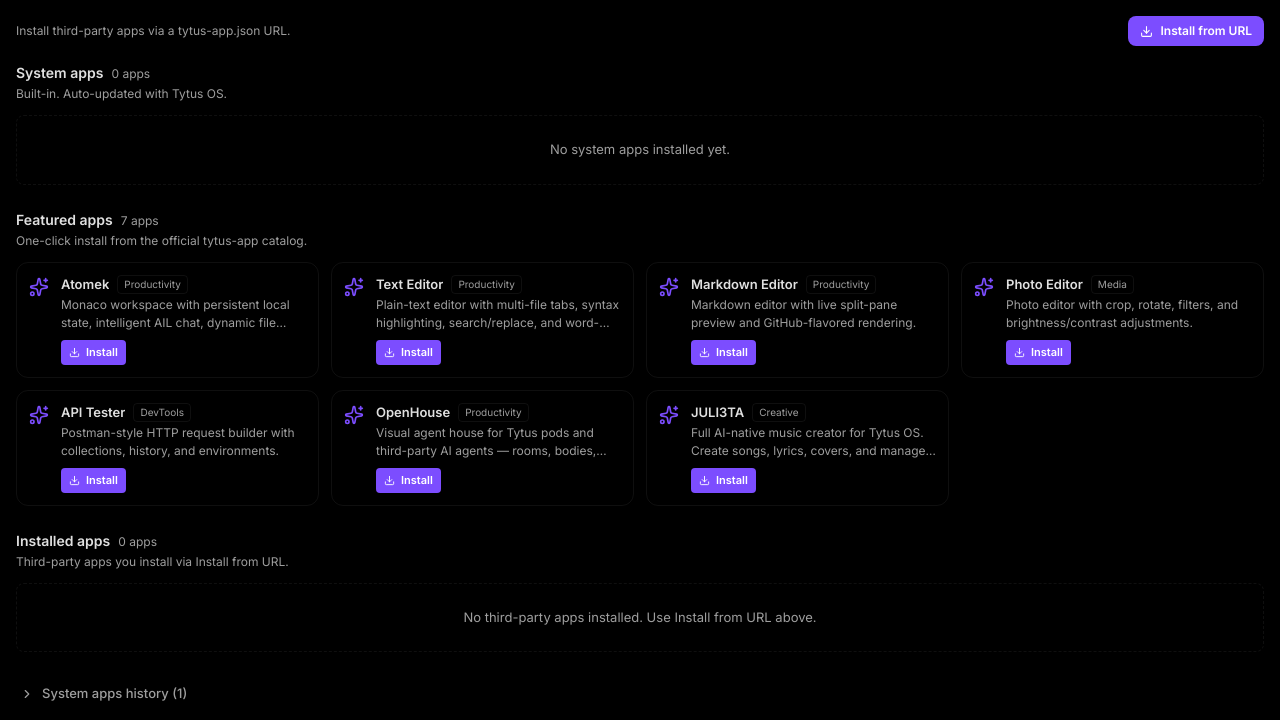
Test case: TytusAppsTab › expands the System apps history section on click
Click the button with test id "tytus-apps-history-toggle". click: [109, 693]
box: top-left (16, 676), bottom-right (1264, 712)
(page scrolled)
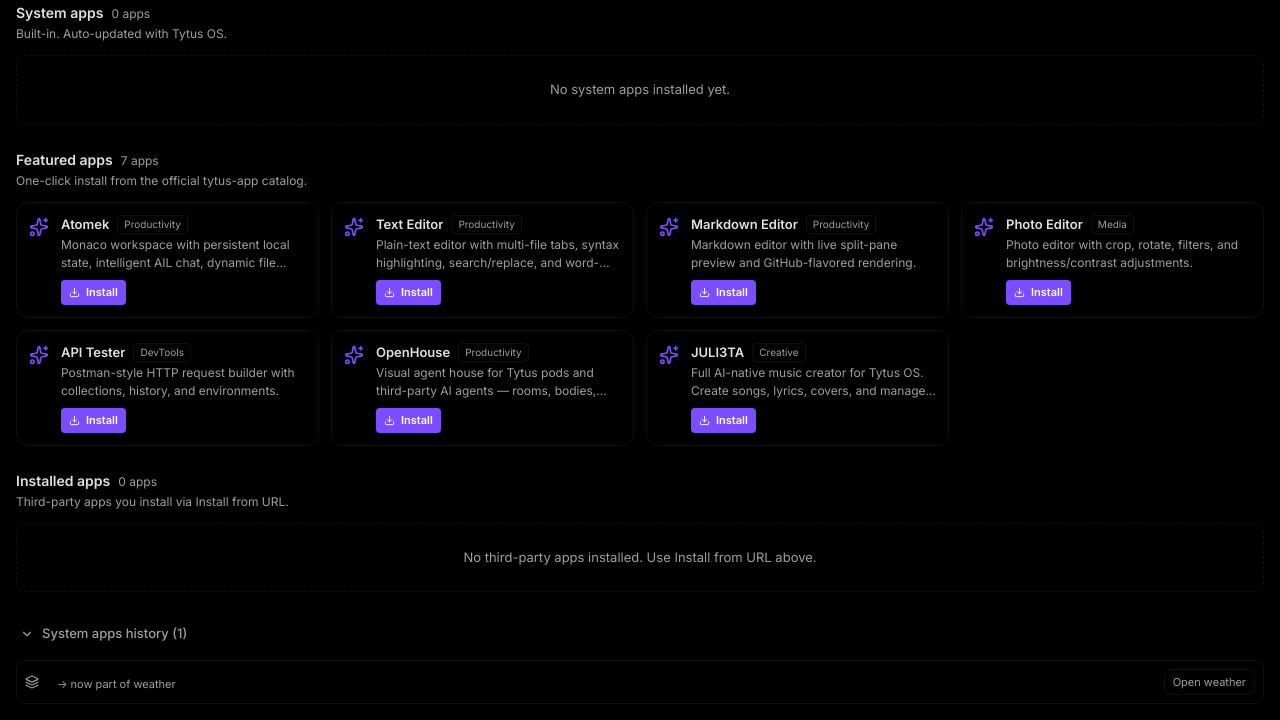
Check: the element with test id "tytus-app-alias-old-weather" is shown, box top-left (16, 660), bottom-right (1264, 704)
